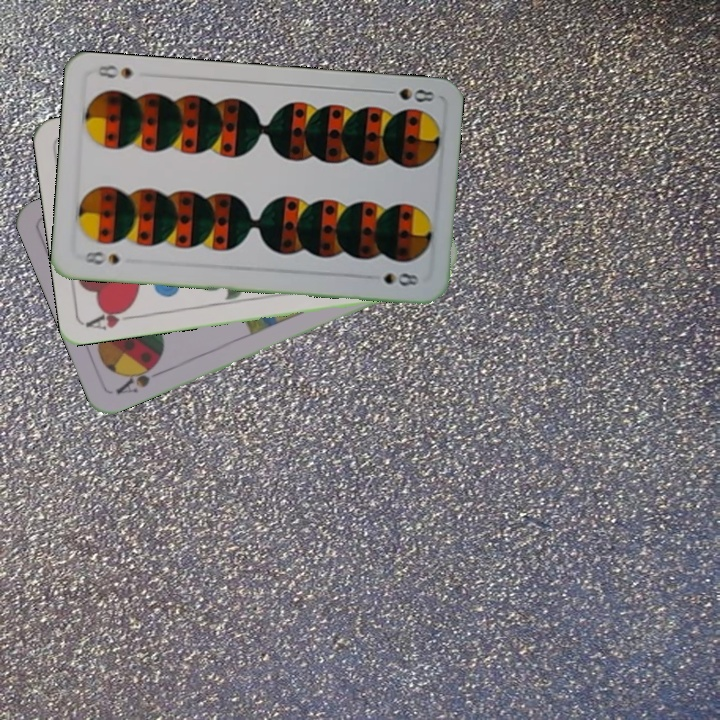HA: (83, 302, 143, 332)
S8: (378, 84, 437, 105), (80, 247, 123, 267)
SA: (112, 357, 167, 397)
